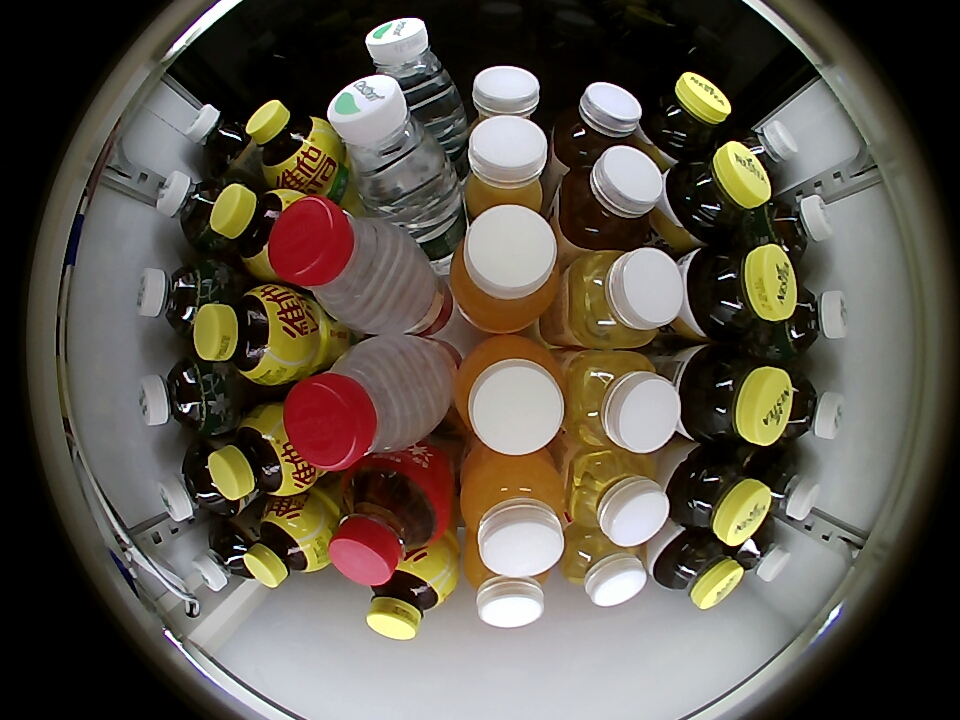binghongcha: (328, 457, 452, 586)
chacui: (679, 345, 792, 447), (687, 244, 797, 341), (664, 143, 770, 243), (667, 446, 770, 545), (642, 72, 730, 162), (654, 529, 743, 610)
chapai: (554, 145, 664, 250), (551, 82, 642, 168)
chapai2: (564, 247, 683, 349), (564, 350, 680, 454), (566, 449, 669, 546), (560, 525, 646, 607)
damaicha: (158, 443, 234, 522), (187, 103, 252, 172), (193, 522, 256, 591)
moliqingcha: (137, 356, 225, 434), (136, 261, 223, 337), (752, 194, 834, 264), (772, 284, 849, 358), (157, 171, 230, 249), (776, 367, 845, 444)
nfc: (462, 115, 550, 219), (469, 66, 543, 127)
nongfushanquan: (270, 195, 426, 333), (284, 336, 442, 471)
weic: (450, 205, 561, 332), (460, 450, 568, 577), (454, 336, 566, 456), (464, 544, 550, 628)
weitaningmeng-bottle: (193, 284, 305, 385), (208, 404, 314, 503), (211, 183, 307, 279), (245, 99, 334, 188), (366, 553, 455, 640), (244, 501, 328, 588)
wulongcha: (753, 453, 821, 522), (729, 121, 797, 183), (730, 521, 790, 583)
yibao: (328, 76, 452, 216), (364, 18, 460, 116)
